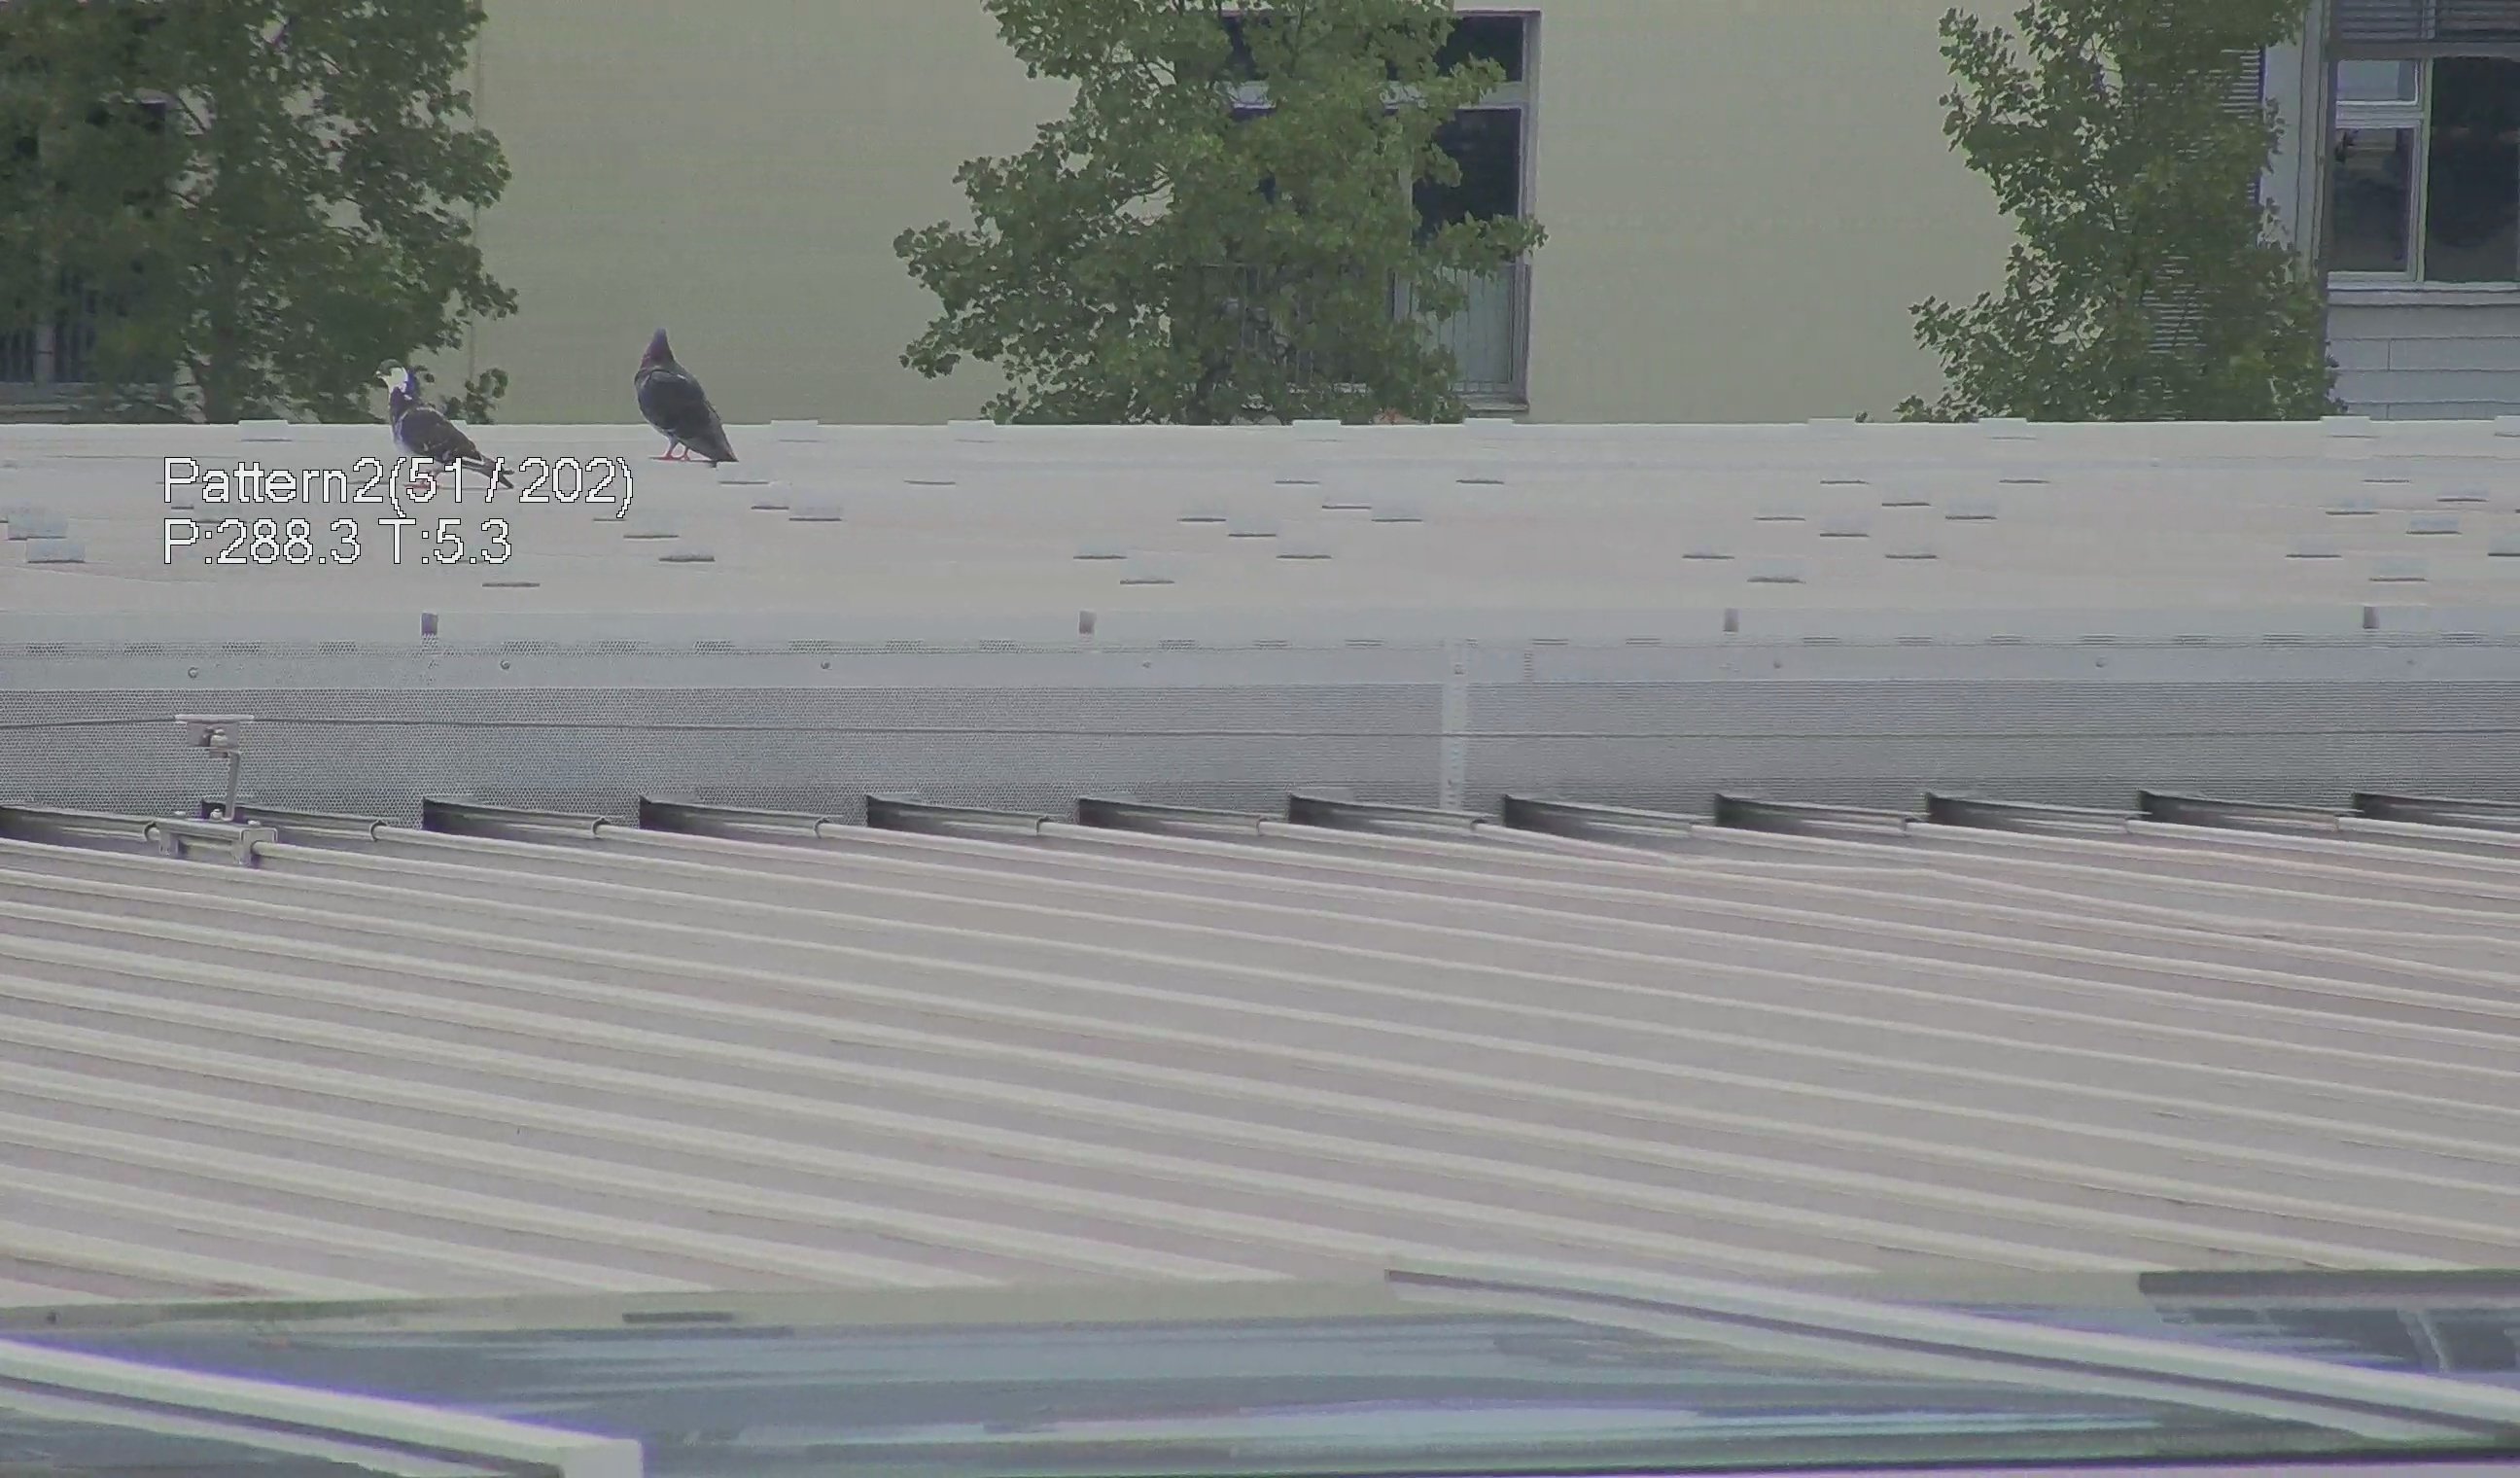Pigeon: (617, 310, 735, 473), (362, 350, 503, 484)
